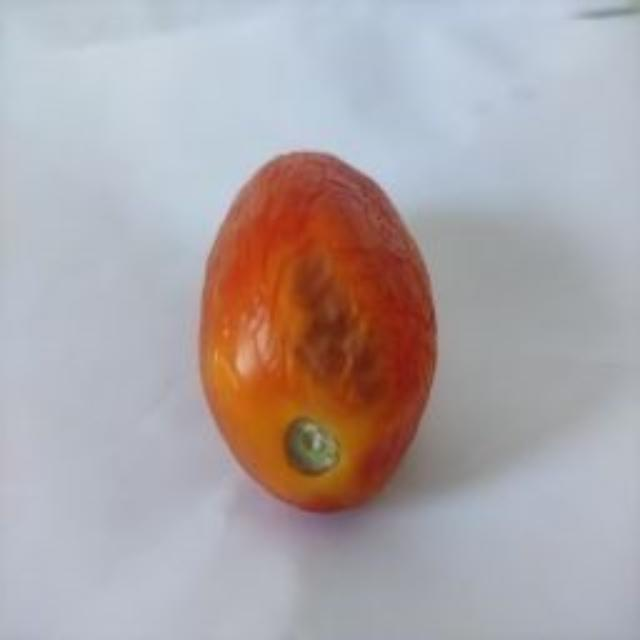defect: (196, 145, 441, 517)
